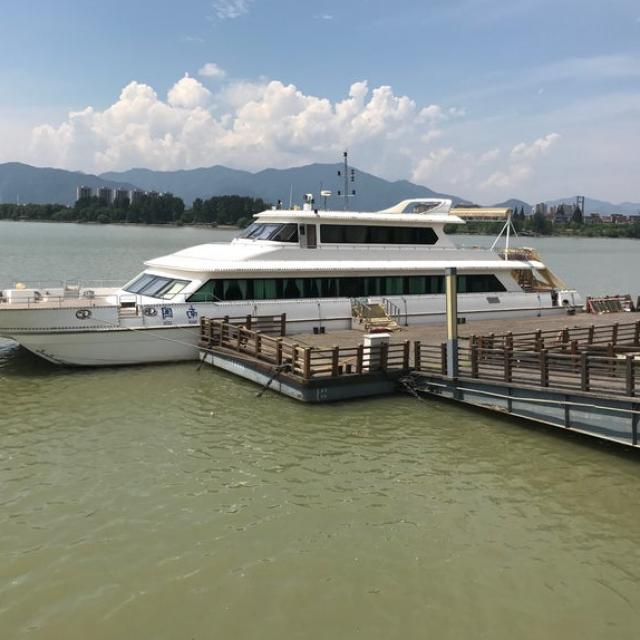houseboat: (0, 183, 580, 372)
